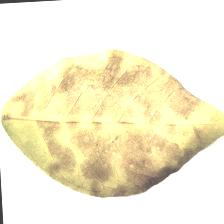black spot: (49, 84, 166, 166)
